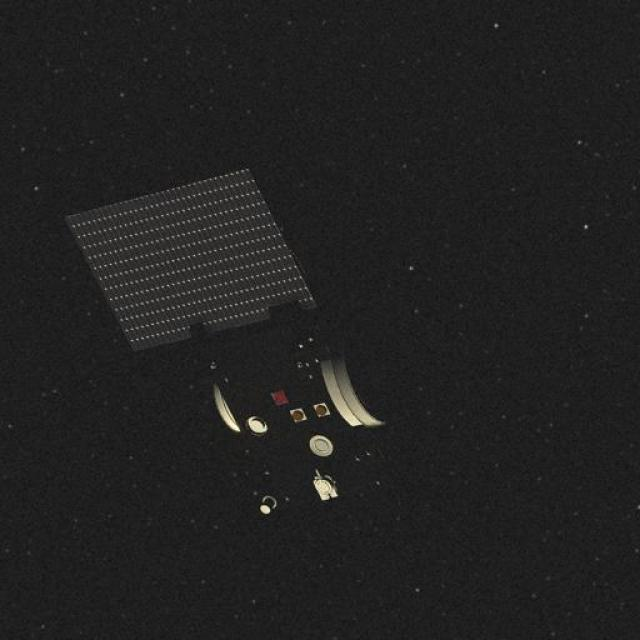proba_3_csc: (93, 164, 397, 532)
